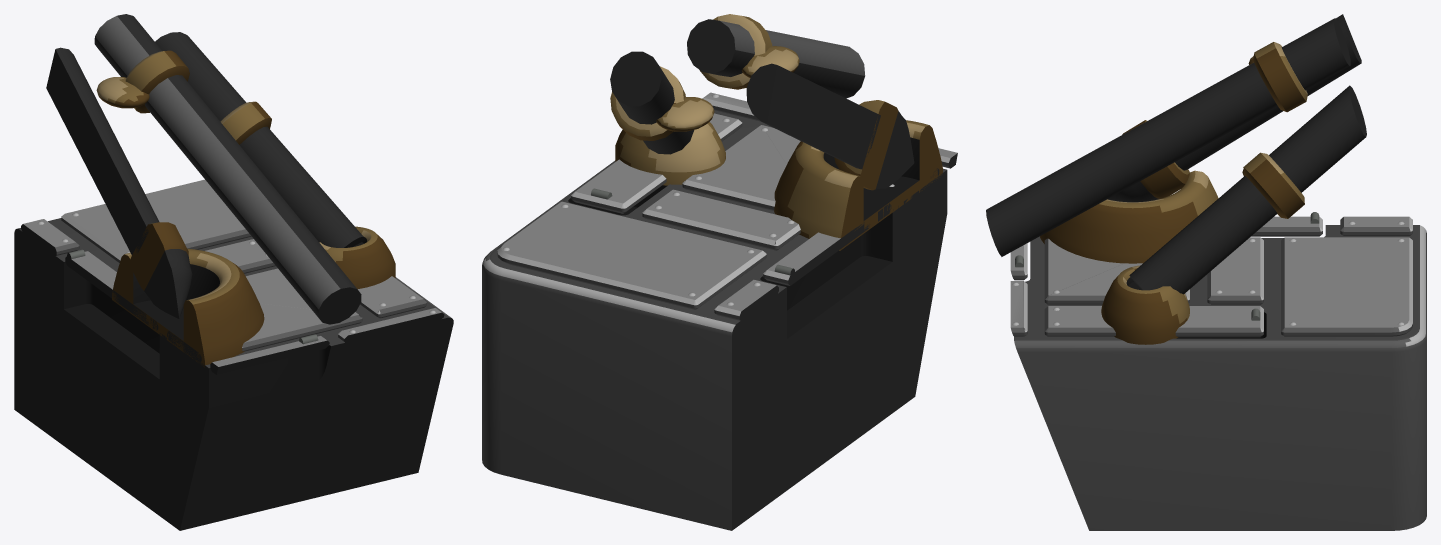
The model's file is asteroid_rig_tr_45.glb.
3 views of the same model, side by side, from view 1: azimuth 30°, elevation 25°; view 2: azimuth 150°, elevation 25°; view 3: azimuth 270°, elevation 25° (orthographic). The views are drawn at different scales.
Visible parts, largest first — view 1: asteroid_rig_tr_45; view 2: asteroid_rig_tr_45; view 3: asteroid_rig_tr_45.
Part boxes in pixels (<box>): asteroid_rig_tr_45: <box>14,14,453,530</box>; asteroid_rig_tr_45: <box>482,14,957,530</box>; asteroid_rig_tr_45: <box>986,14,1426,530</box>.
Bounding box in the file's own units: 19 × 31.48 × 29.84.
